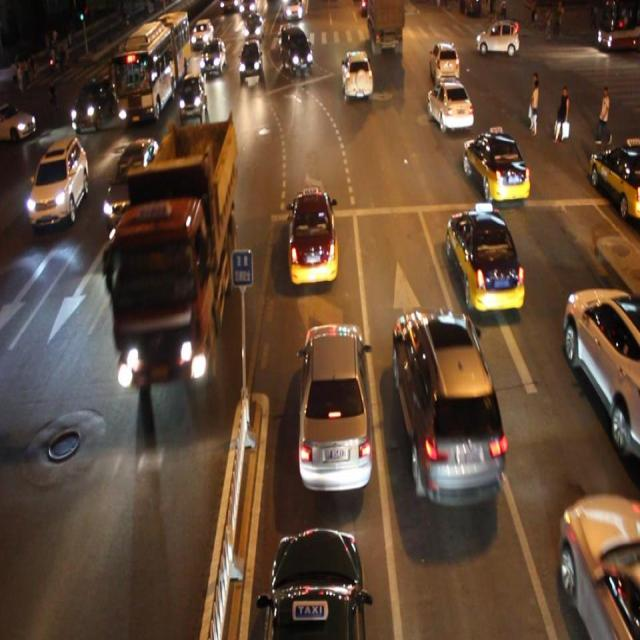bus: (113, 118, 234, 377), (369, 1, 404, 57)
car: (393, 308, 502, 503), (560, 285, 640, 461), (297, 319, 373, 495), (558, 488, 640, 640), (260, 526, 367, 640), (444, 209, 522, 309), (26, 135, 89, 229), (101, 138, 162, 226), (287, 188, 339, 284), (462, 130, 528, 202), (71, 72, 115, 132), (426, 80, 472, 132), (280, 28, 314, 75), (342, 51, 373, 102), (428, 41, 460, 87), (178, 73, 205, 119), (200, 37, 226, 78), (240, 42, 264, 80)
van: (114, 14, 186, 118)
